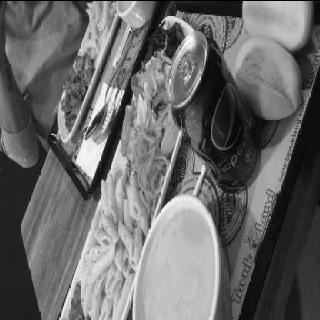alumunium_can: (167, 29, 260, 191)
